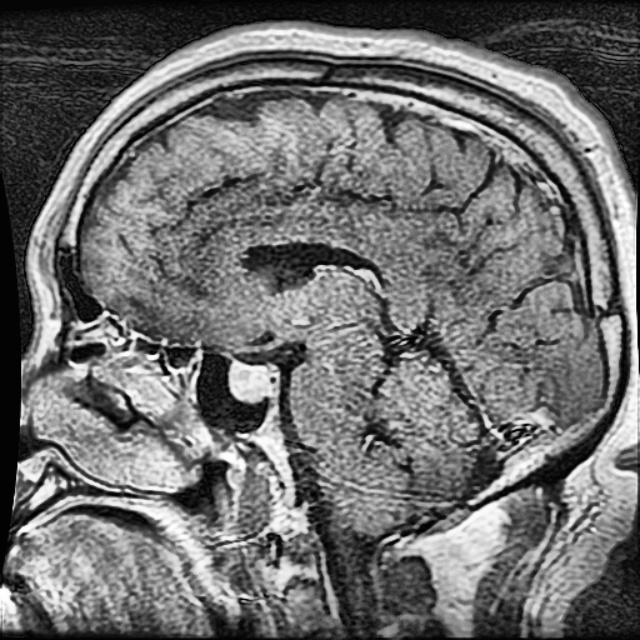Pituitary: (227, 360, 279, 402)
